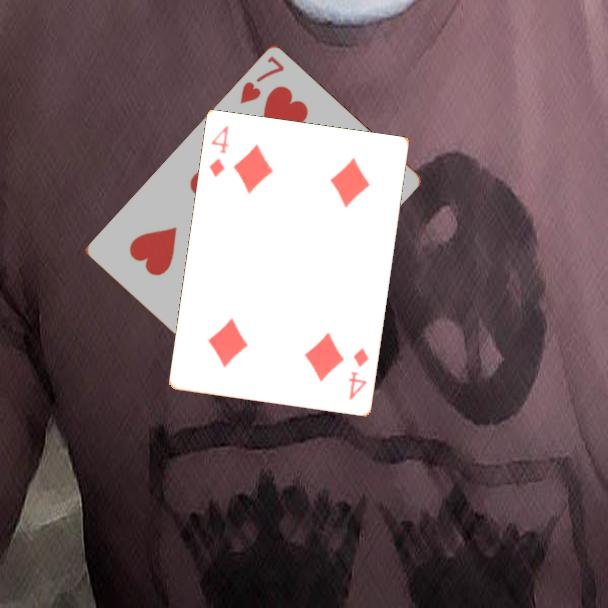d04: (345, 344, 372, 403), (206, 122, 232, 180)
h07: (236, 53, 287, 108)
